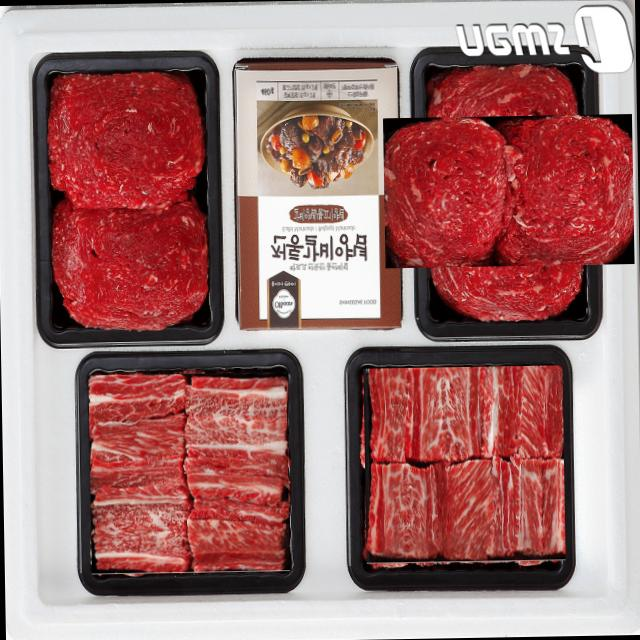beef: (406, 89, 610, 292), (88, 372, 290, 574), (48, 75, 206, 332), (362, 365, 565, 563)
